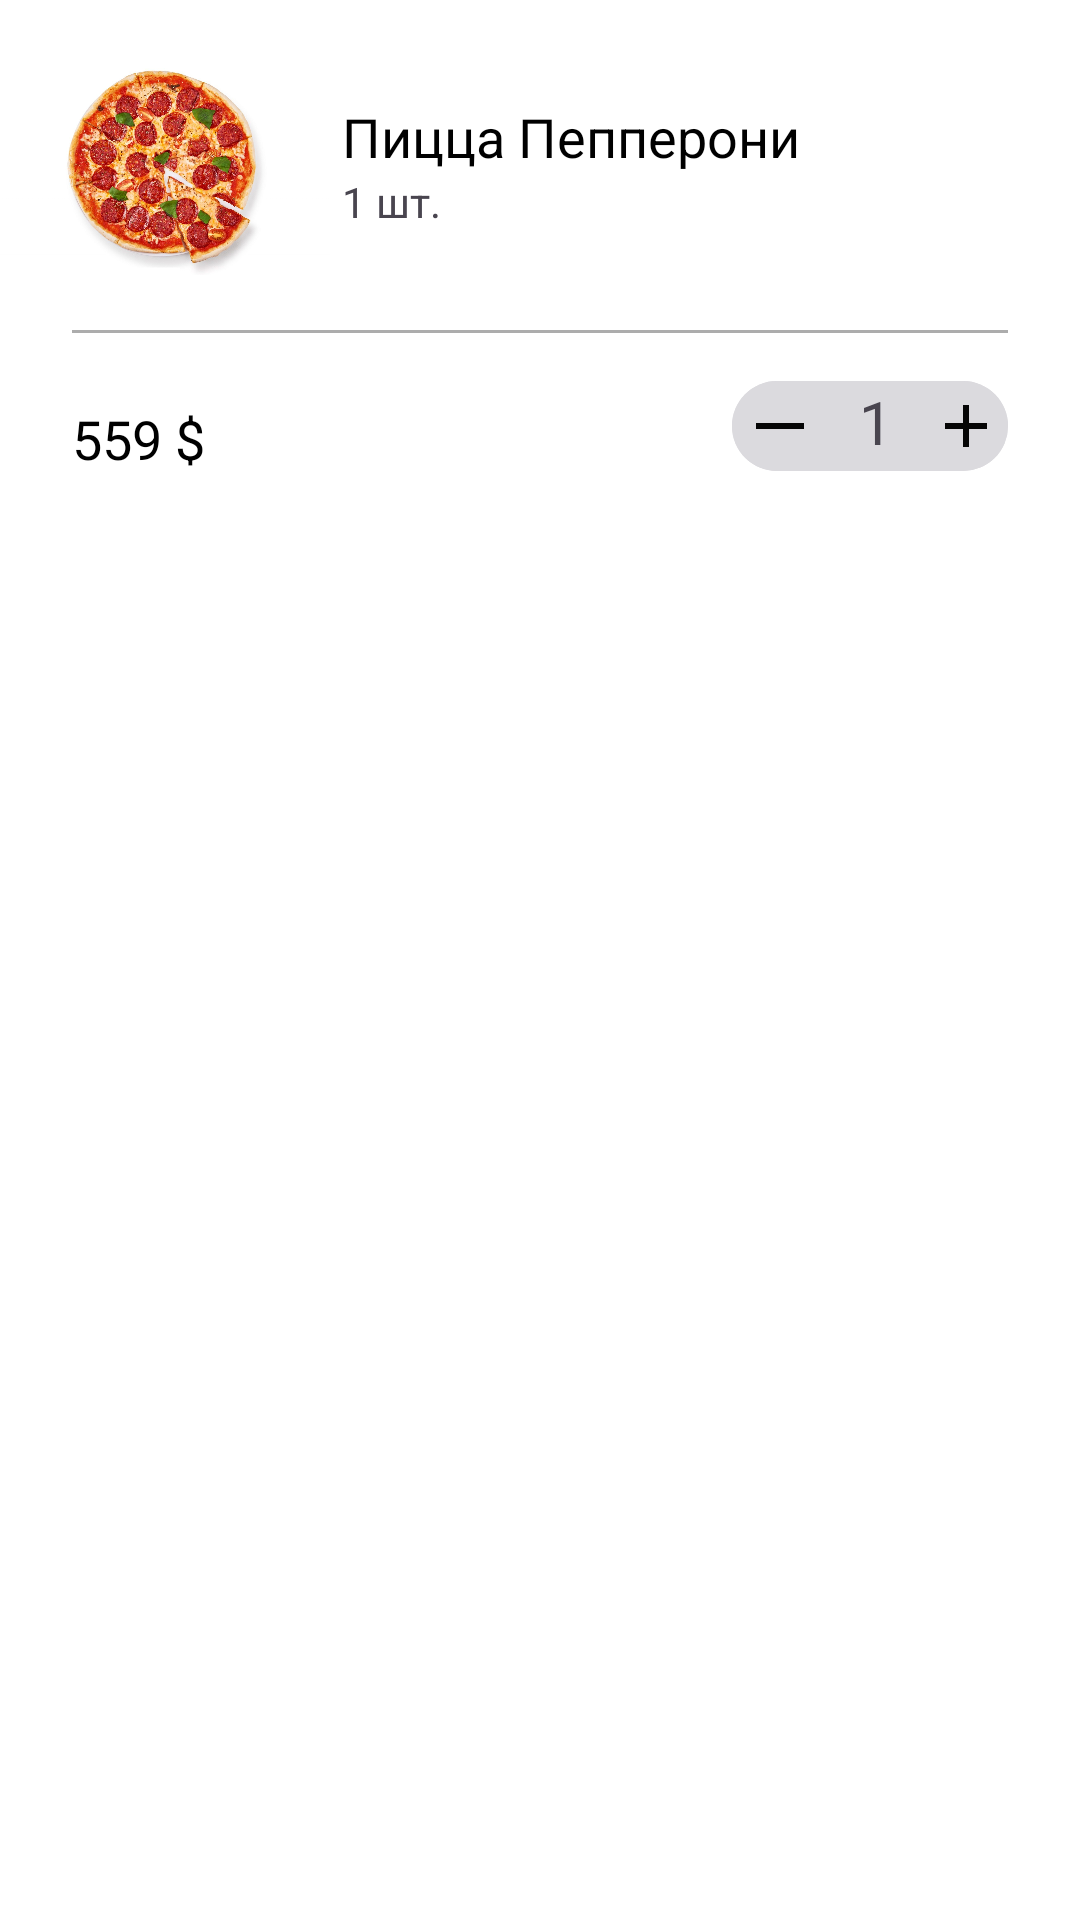

Icon click points for this 1080 x 1920 phone screenshot, format (x,y):
add: (966,426)
